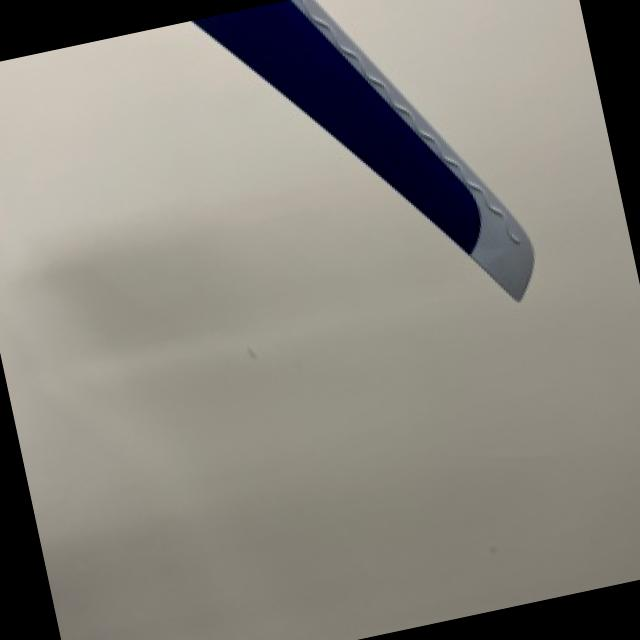healthy: (197, 0, 536, 295)
